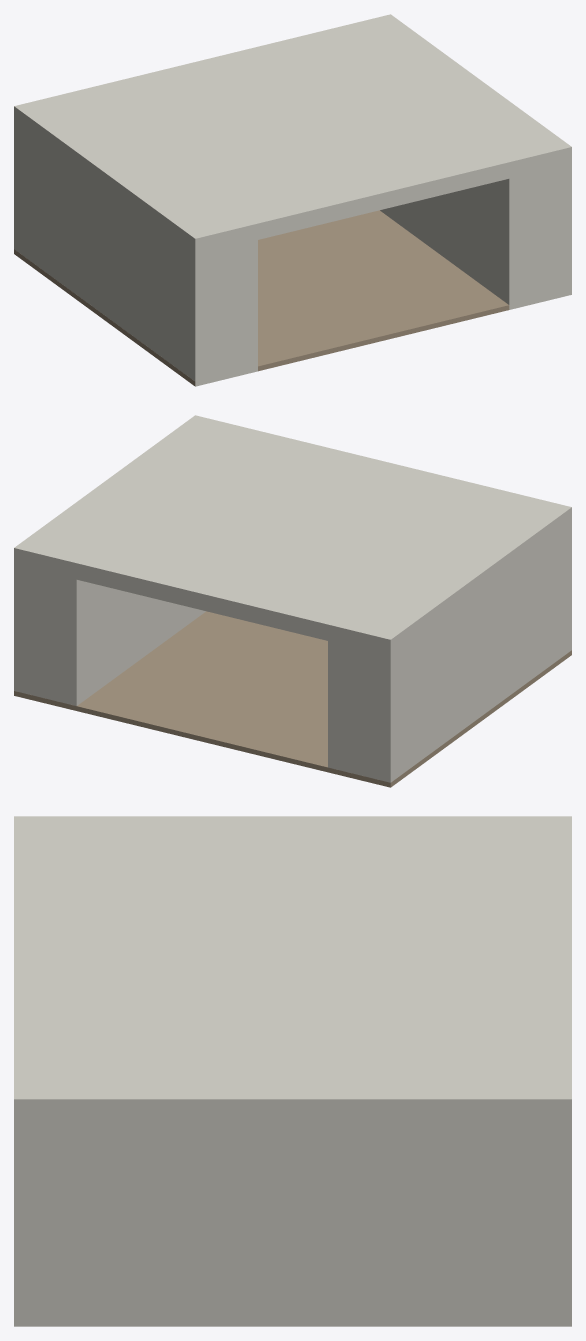
The model's file is stock-car-oval-speedway-backstretch-tunnel-entry-050f8a27__16915.glb.
The picture shows the model from 3 angles, top to bottom: view 1: azimuth 30°, elevation 25°; view 2: azimuth 150°, elevation 25°; view 3: azimuth 270°, elevation 25°; orthographic projection. The views are drawn at different scales.
Parts seen in each view (by area): view 1: backstretch-tunnel-entry; view 2: backstretch-tunnel-entry; view 3: backstretch-tunnel-entry.
Part boxes in pixels (x1=…): backstretch-tunnel-entry: x1=14, y1=14, x2=571, y2=386; backstretch-tunnel-entry: x1=14, y1=415, x2=571, y2=787; backstretch-tunnel-entry: x1=14, y1=816, x2=571, y2=1326.
Size of the model in its own units: 12 by 4.5 by 10.
